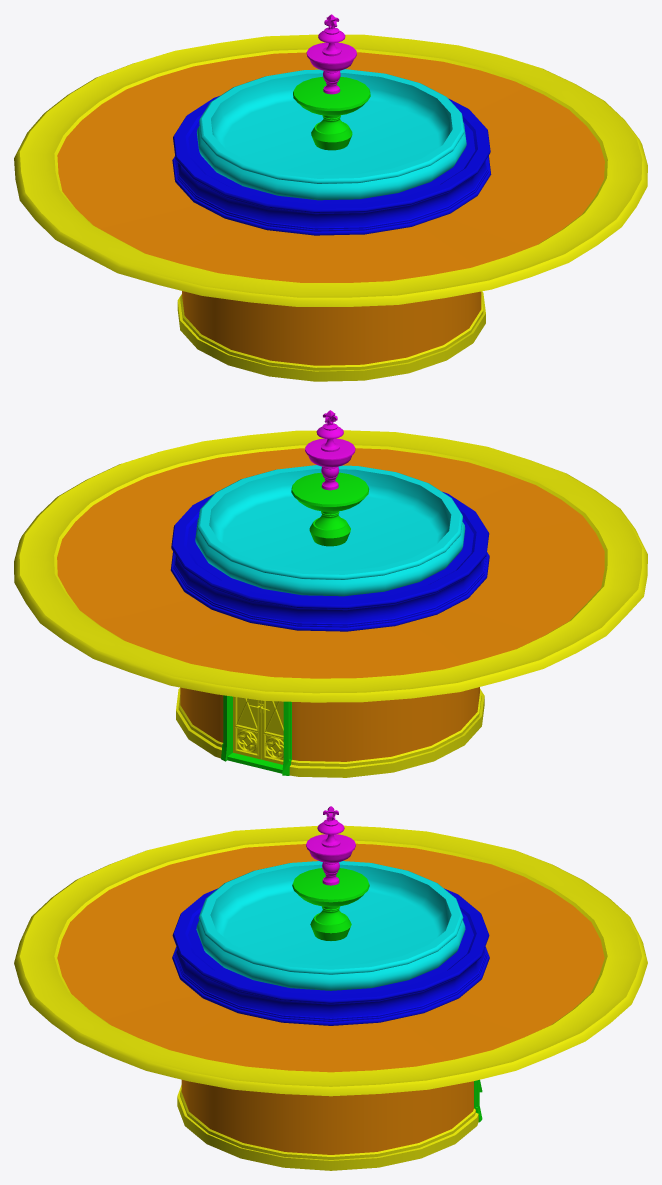
The picture shows the model from 3 angles, top to bottom: view 1: azimuth 30°, elevation 25°; view 2: azimuth 150°, elevation 25°; view 3: azimuth 270°, elevation 25°; orthographic projection.
Parts seen in each view (by area): view 1: well_groundPlate_low, well_base_top_low, well_building_low, well_base_bottom_low, middlePart_bottom_low, middlePart_middle_low, middlePart_top_low; view 2: well_groundPlate_low, well_base_top_low, well_building_low, well_base_bottom_low, middlePart_bottom_low, well_door_low1, well_door_low2, middlePart_middle_low, well_doorway_low, well_step_low; view 3: well_groundPlate_low, well_base_top_low, well_building_low, well_base_bottom_low, middlePart_bottom_low, middlePart_middle_low, middlePart_top_low.
Part boxes in pixels (left/top/right/bottom): well_groundPlate_low: left=14, top=34, right=647, bottom=306; well_base_top_low: left=197, top=69, right=466, bottom=200; well_building_low: left=177, top=291, right=485, bottom=381; well_base_bottom_low: left=172, top=96, right=491, bottom=235; middlePart_bottom_low: left=293, top=76, right=370, bottom=150; middlePart_middle_low: left=306, top=42, right=356, bottom=94; middlePart_top_low: left=318, top=27, right=345, bottom=56; well_groundPlate_low: left=14, top=430, right=647, bottom=702; well_base_top_low: left=195, top=465, right=465, bottom=596; well_building_low: left=176, top=687, right=484, bottom=777; well_base_bottom_low: left=170, top=491, right=489, bottom=631; middlePart_bottom_low: left=291, top=472, right=369, bottom=546; well_door_low1: left=233, top=696, right=261, bottom=759; well_door_low2: left=260, top=700, right=283, bottom=764; middlePart_middle_low: left=305, top=438, right=355, bottom=490; well_doorway_low: left=221, top=695, right=291, bottom=775; well_step_low: left=227, top=753, right=282, bottom=773; well_groundPlate_low: left=14, top=825, right=647, bottom=1096; well_base_top_low: left=196, top=861, right=465, bottom=990; well_building_low: left=177, top=1080, right=478, bottom=1170; well_base_bottom_low: left=172, top=888, right=489, bottom=1025; middlePart_bottom_low: left=292, top=868, right=369, bottom=940; middlePart_middle_low: left=306, top=834, right=355, bottom=885; middlePart_top_low: left=317, top=819, right=344, bottom=847.
Size of the model in its own units: 1196 by 627 by 1202.
